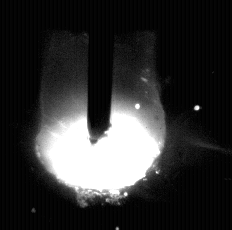arame: (88, 0, 112, 144)
poca: (34, 0, 165, 230)
